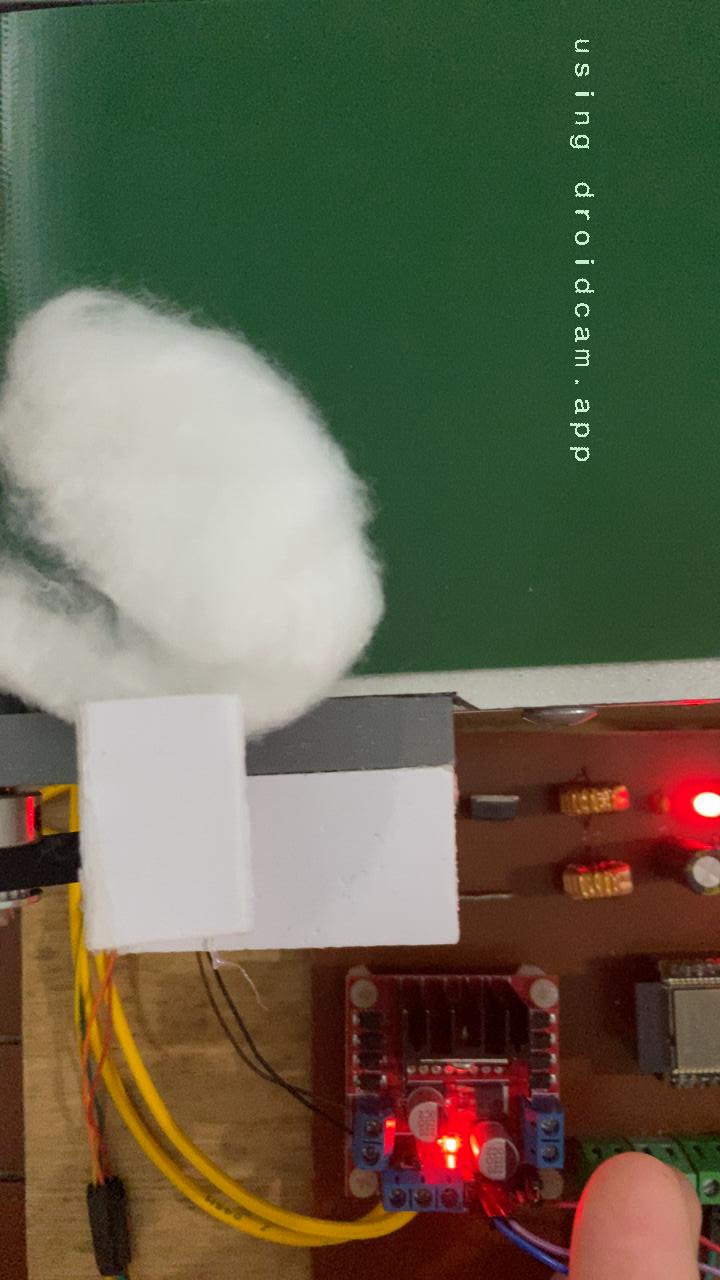cotton: (0, 282, 393, 660)
